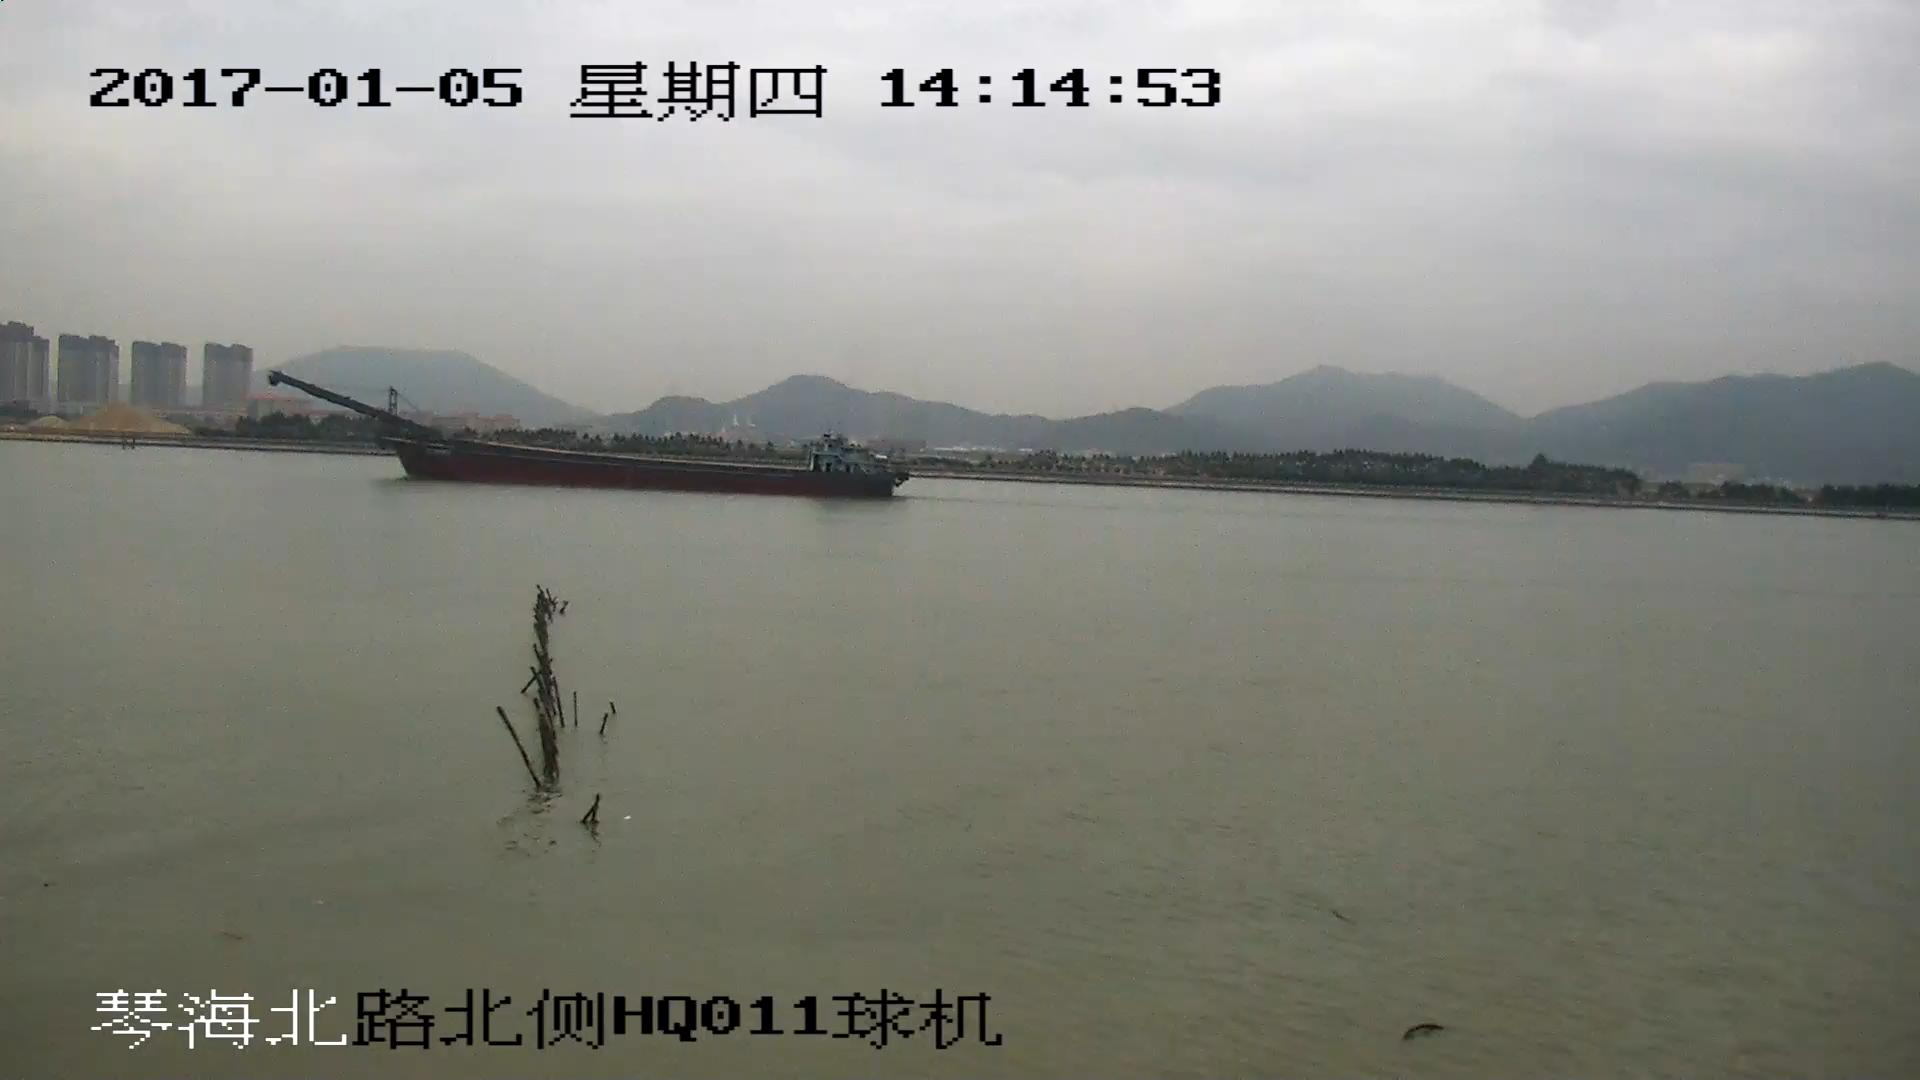bulk cargo carrier: (272, 374, 906, 499)
